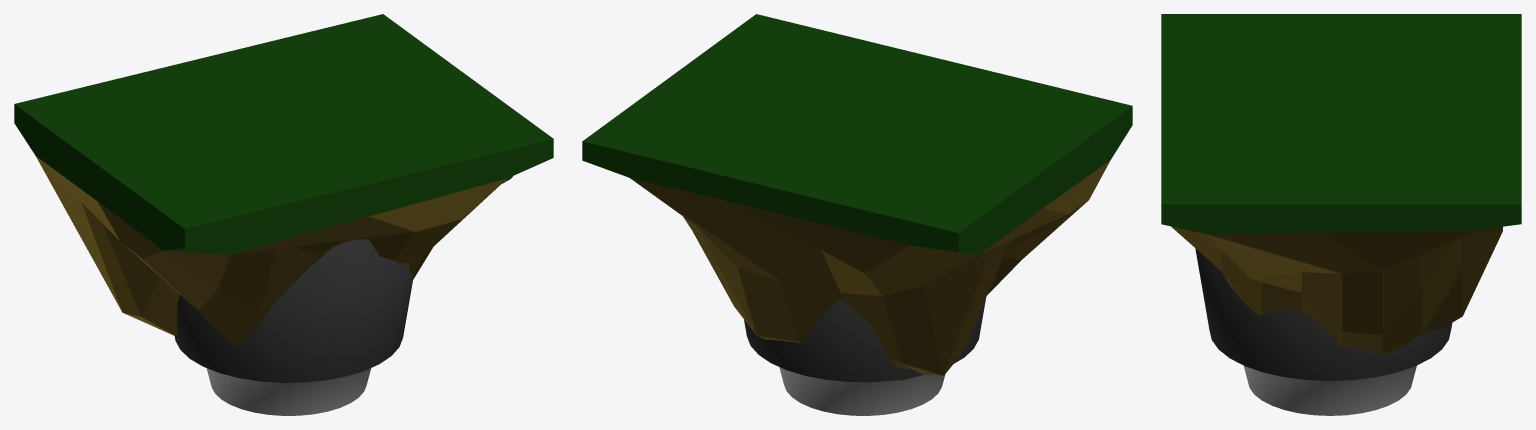
File: Island4.fbx
3 renders of one model, left to right at view 1: azimuth 30°, elevation 25°; view 2: azimuth 150°, elevation 25°; view 3: azimuth 270°, elevation 25°, orthographic. The views are drawn at different scales.
Visible parts, largest first — view 1: Island4; view 2: Island4; view 3: Island4.
Part boxes in pixels (x1,y1,x2,y2): Island4: (14,14,553,415); Island4: (582,14,1132,415); Island4: (1161,14,1521,415).
Size of the model in its own units: 4154 by 2772 by 3328.
